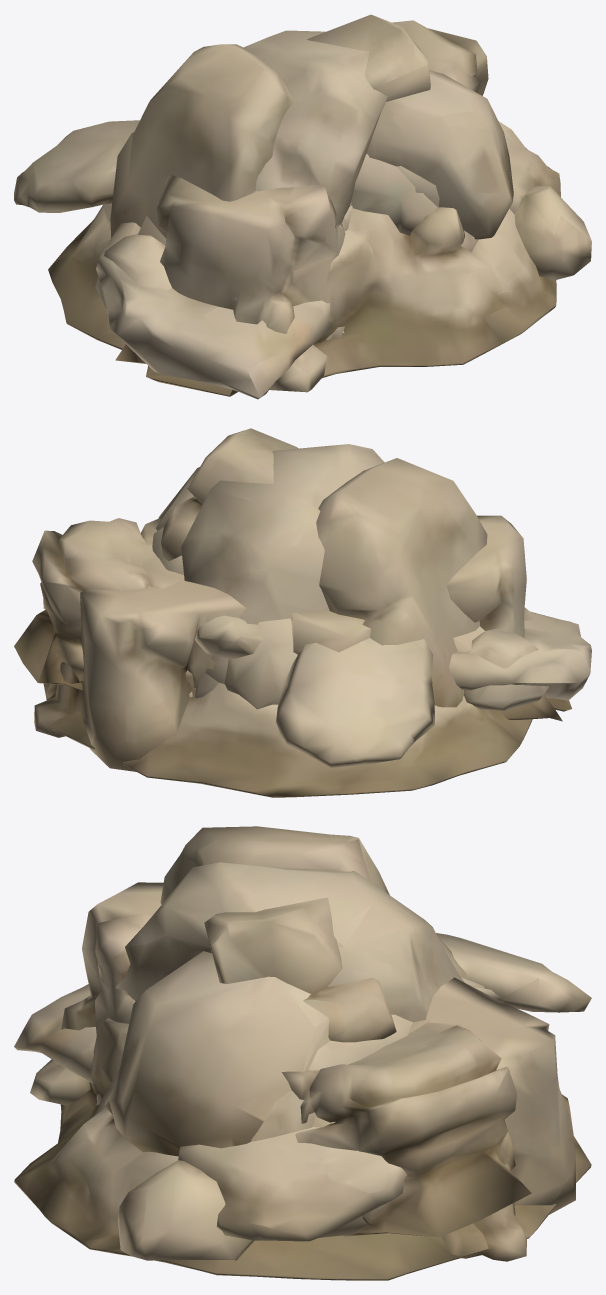
File: rochas.glb
3 views of the same model, one above another, from view 1: azimuth 30°, elevation 25°; view 2: azimuth 150°, elevation 25°; view 3: azimuth 270°, elevation 25° (orthographic). The views are drawn at different scales.
Visible parts, largest first — view 1: Rocha1, Rocha5, Rocha8, Rocha4, Rocha3, Rocha9, Rocha6, Rocha2, Rocha7; view 2: Rocha4, Rocha5, Rocha8, Rocha1, Rocha9, Rocha2, Rocha6, Rocha3, Rocha7; view 3: Rocha3, Rocha2, Rocha5, Rocha1, Rocha4, Rocha9, Rocha6, Rocha8, Rocha7.
Boxes of the visible parts, x1,y1,x2,y2 form: Rocha1: [48, 203, 556, 378]; Rocha5: [14, 120, 560, 399]; Rocha8: [110, 44, 437, 238]; Rocha4: [156, 175, 352, 392]; Rocha3: [95, 70, 591, 309]; Rocha9: [244, 30, 387, 228]; Rocha6: [138, 14, 430, 245]; Rocha2: [115, 20, 488, 396]; Rocha7: [396, 166, 478, 252]; Rocha4: [34, 515, 532, 771]; Rocha5: [43, 599, 591, 767]; Rocha8: [316, 458, 487, 707]; Rocha1: [43, 670, 532, 797]; Rocha9: [181, 444, 384, 687]; Rocha2: [14, 518, 571, 721]; Rocha6: [144, 428, 484, 698]; Rocha3: [156, 467, 548, 711]; Rocha7: [152, 527, 214, 669]; Rocha3: [109, 951, 484, 1260]; Rocha2: [99, 1022, 531, 1237]; Rocha5: [14, 933, 591, 1241]; Rocha1: [14, 1018, 591, 1280]; Rocha4: [30, 882, 575, 1261]; Rocha9: [116, 862, 464, 1022]; Rocha6: [204, 897, 466, 1127]; Rocha8: [160, 826, 389, 904]; Rocha7: [120, 1014, 412, 1141].
Bounding box in the file's own units: 1.73 × 0.8535 × 1.52.
1 material, 1 textured.
